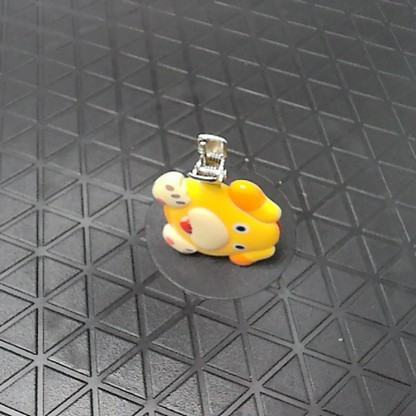dogclip: (149, 128, 283, 267)
